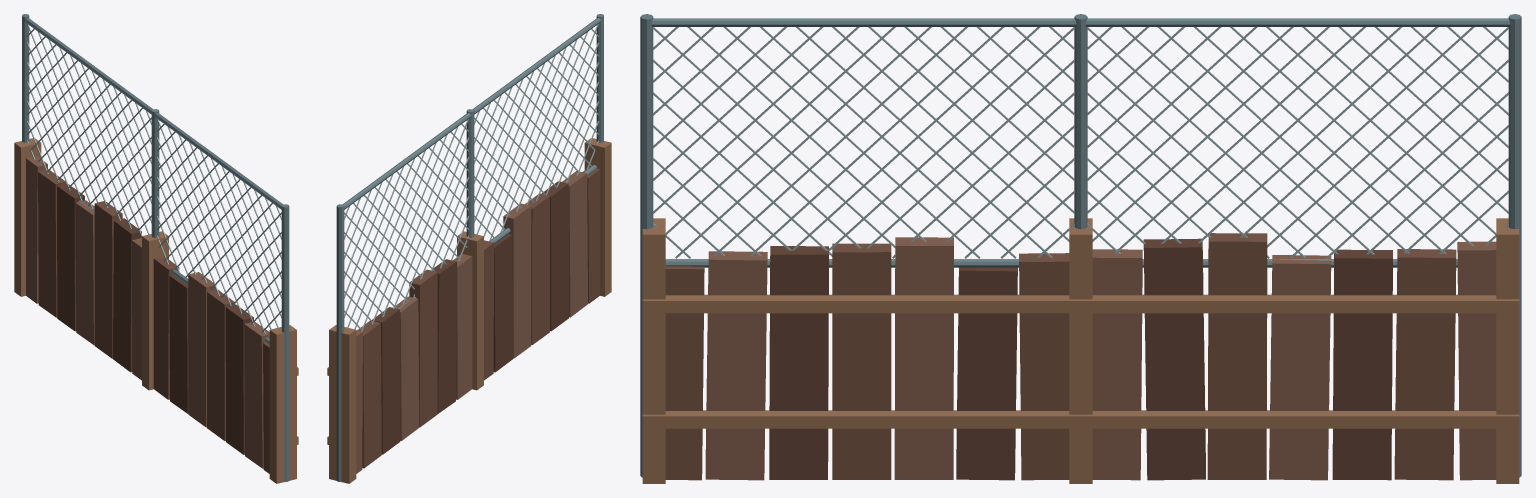
Rendered from wood_fence.glb.
3 views of the same model, side by side, from view 1: azimuth 30°, elevation 25°; view 2: azimuth 150°, elevation 25°; view 3: azimuth 270°, elevation 25° (orthographic). The views are drawn at different scales.
Visible parts, largest first — view 1: wood_fence; view 2: wood_fence; view 3: wood_fence.
Part boxes in pixels (bbox=[...]): wood_fence: bbox=[14, 14, 298, 483]; wood_fence: bbox=[327, 14, 611, 483]; wood_fence: bbox=[640, 14, 1521, 483].
Bounding box in the file's own units: 0.295 × 3.5 × 6.09.
